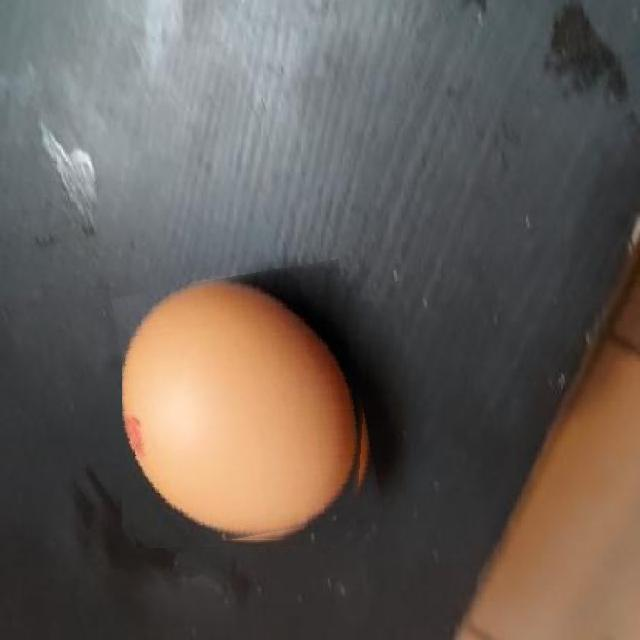biodegradable: (122, 268, 373, 548)
